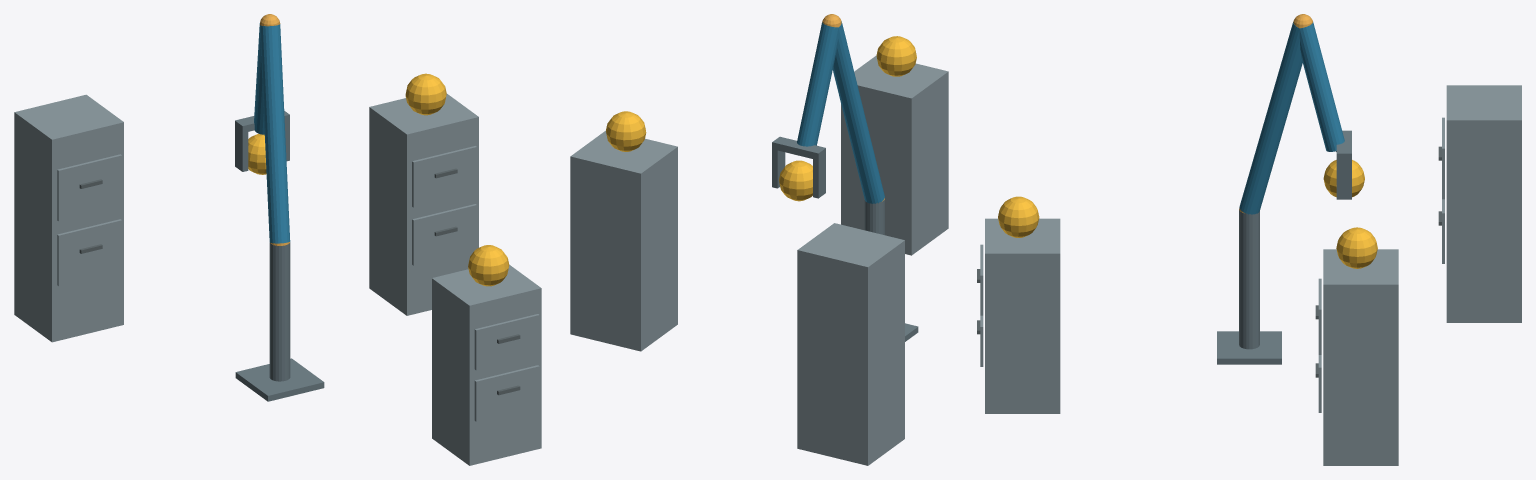
The picture shows the model from 3 angles, left to right: view 1: azimuth 30°, elevation 25°; view 2: azimuth 150°, elevation 25°; view 3: azimuth 270°, elevation 25°; orthographic projection.
Parts seen in each view (by area): view 1: cabinet_3 body, cabinet_1 body, cabinet_2 body, moving link 1, cabinet_3 drawer front, cabinet_3 drawer front.001, fixed post, cabinet_2 drawer front.001, cabinet_2 drawer front, cabinet_1 drawer front, cabinet_1 drawer front.001, pedestal (+5 smaller); view 2: cabinet_3 body, cabinet_2 body, cabinet_1 body, moving link 1, moving link 2, released ball_1, released ball_2, ball ball_3, gripper bridge, fixed post, gripper finger -1, gripper finger 1; view 3: cabinet_3 body, cabinet_2 body, cabinet_1 body, moving link 1, fixed post, moving link 2, pedestal, released ball_2, released ball_1, ball ball_3, gripper finger 1.
Part boxes in pixels (bbox=[...]): cabinet_3 body: bbox=[14, 94, 123, 342]; cabinet_1 body: bbox=[432, 265, 541, 465]; cabinet_2 body: bbox=[369, 93, 478, 315]; moving link 1: bbox=[259, 24, 290, 243]; cabinet_3 drawer front: bbox=[57, 219, 121, 286]; cabinet_3 drawer front.001: bbox=[57, 154, 121, 221]; fixed post: bbox=[269, 242, 290, 381]; cabinet_2 drawer front.001: bbox=[412, 146, 476, 207]; cabinet_2 drawer front: bbox=[412, 204, 476, 265]; cabinet_1 drawer front: bbox=[474, 365, 539, 421]; cabinet_1 drawer front.001: bbox=[474, 314, 539, 370]; pedestal: bbox=[235, 358, 324, 401]; cabinet_3 body: bbox=[797, 223, 904, 465]; cabinet_2 body: bbox=[570, 130, 677, 351]; cabinet_1 body: bbox=[841, 55, 948, 255]; moving link 1: bbox=[832, 21, 884, 203]; moving link 2: bbox=[797, 22, 838, 146]; released ball_1: bbox=[876, 36, 916, 76]; released ball_2: bbox=[606, 111, 646, 151]; ball ball_3: bbox=[779, 160, 812, 201]; gripper bridge: bbox=[772, 136, 825, 160]; fixed post: bbox=[864, 200, 884, 235]; gripper finger -1: bbox=[813, 155, 825, 198]; gripper finger 1: bbox=[772, 149, 785, 188]; cabinet_3 body: bbox=[1446, 85, 1521, 322]; cabinet_2 body: bbox=[1323, 249, 1398, 465]; cabinet_1 body: bbox=[985, 218, 1060, 413]; moving link 1: bbox=[1239, 22, 1302, 214]; fixed post: bbox=[1239, 210, 1259, 349]; moving link 2: bbox=[1299, 22, 1344, 151]; pedestal: bbox=[1217, 331, 1281, 364]; released ball_2: bbox=[1336, 227, 1377, 268]; released ball_1: bbox=[998, 196, 1039, 237]; ball ball_3: bbox=[1323, 160, 1364, 197]; gripper finger 1: bbox=[1336, 160, 1351, 199].
Bounding box in the file's own units: 1.62 × 1.46 × 2.1.
